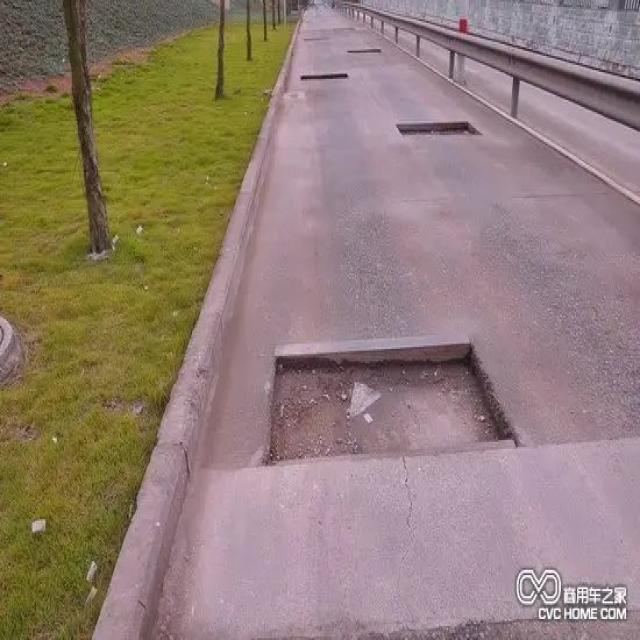Buraco: (255, 340, 526, 469), (394, 120, 484, 139), (298, 72, 350, 83), (344, 46, 384, 57)
